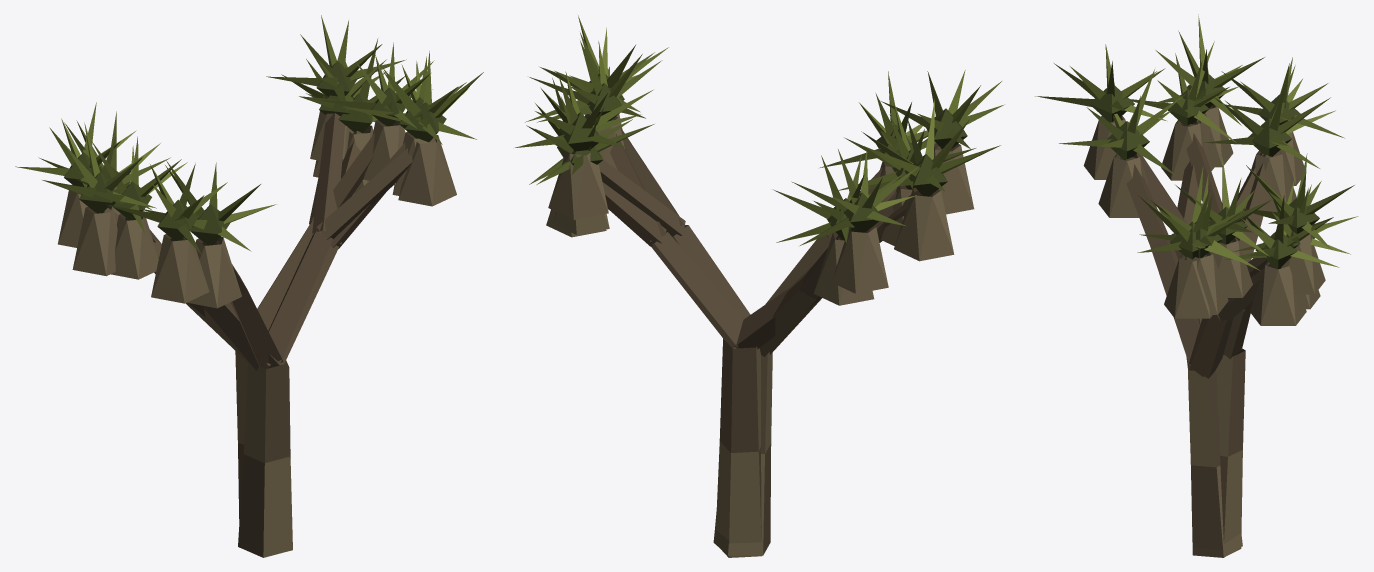
File: joshua.glb
The picture shows the model from 3 angles, left to right: view 1: azimuth 30°, elevation 25°; view 2: azimuth 150°, elevation 25°; view 3: azimuth 270°, elevation 25°; orthographic projection. The views are drawn at different scales.
Parts seen in each view (by area): view 1: joshua_v0, joshua_v1, joshua_v2; view 2: joshua_v2, joshua_v0, joshua_v1; view 3: joshua_v1, joshua_v0, joshua_v2.
Boxes of the visible parts, bbox=[...] form: joshua_v0: bbox=[38, 15, 483, 557]; joshua_v1: bbox=[42, 39, 466, 532]; joshua_v2: bbox=[15, 42, 434, 520]; joshua_v2: bbox=[526, 41, 975, 557]; joshua_v0: bbox=[515, 15, 928, 555]; joshua_v1: bbox=[525, 27, 1004, 548]; joshua_v1: bbox=[1035, 14, 1339, 557]; joshua_v0: bbox=[1059, 65, 1354, 557]; joshua_v2: bbox=[1130, 41, 1358, 554].
Bounding box in the file's own units: 5.32 × 5.42 × 3.65.
